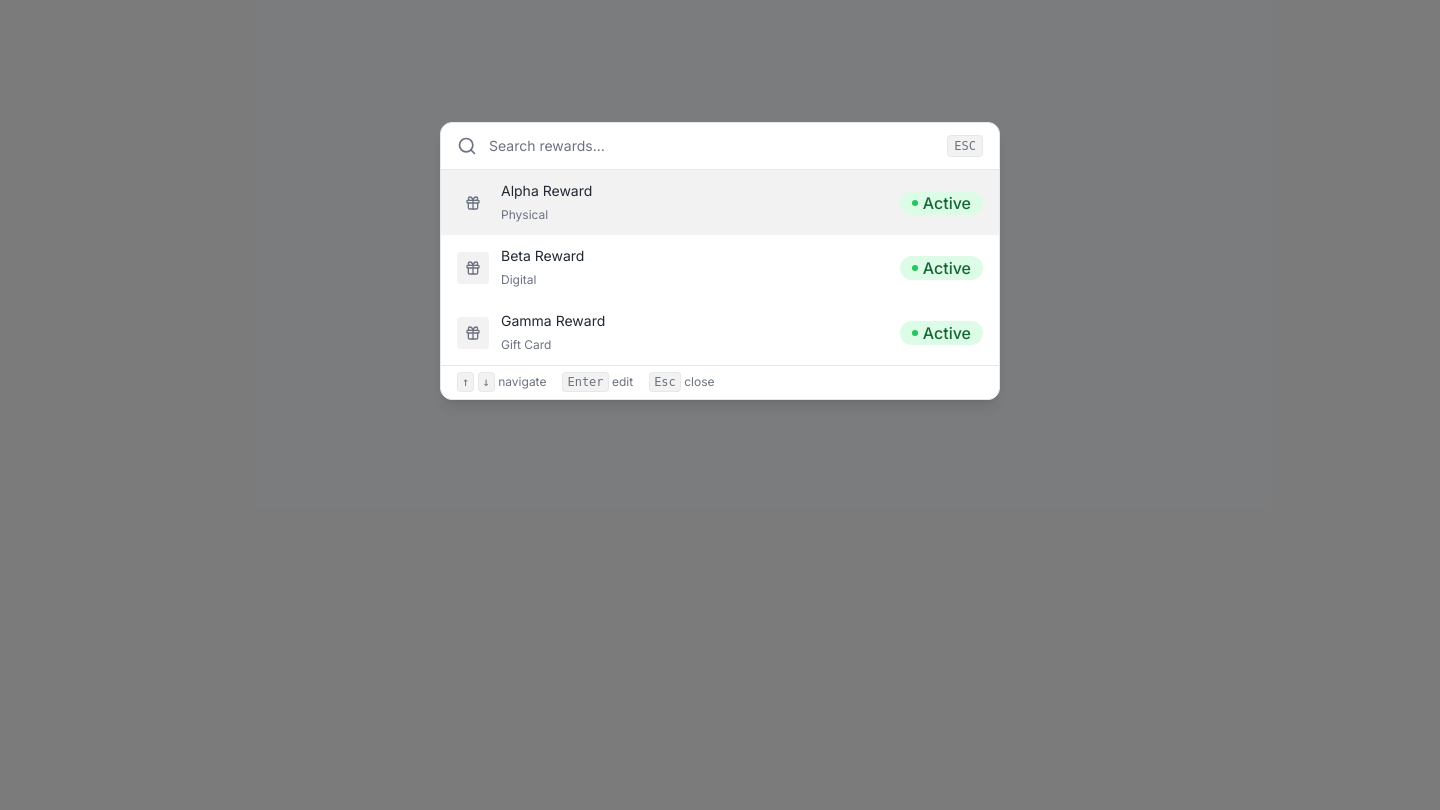
Test: QuickSearch › filters rewards by reward type
Type "Digital" into the field with placeholder "Search rewards...". click: (712, 146)
box: [489,135,935,156]
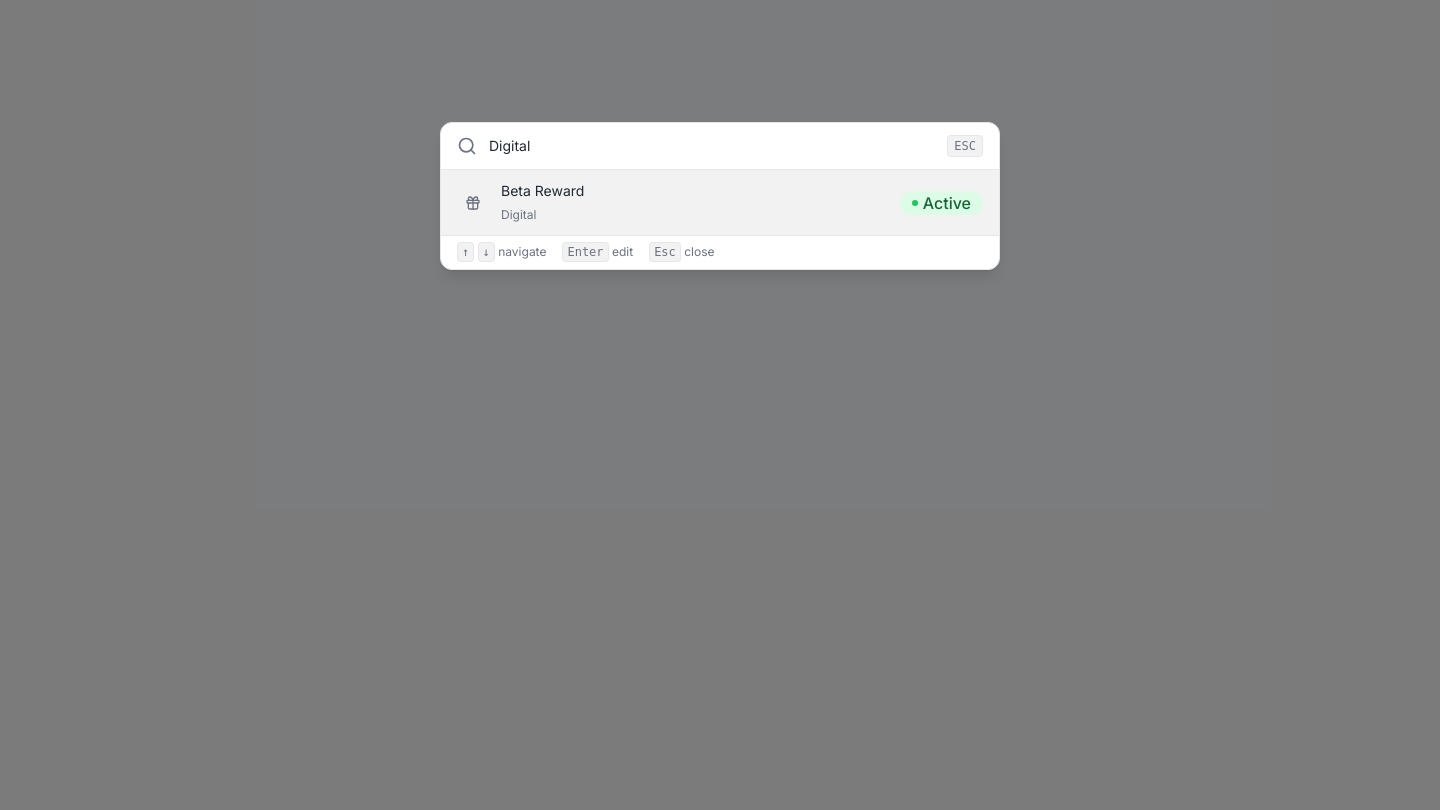
Expected: the text "Beta Reward" is shown, [501,182,584,199]
Now the text "Alpha Reward" is gone
